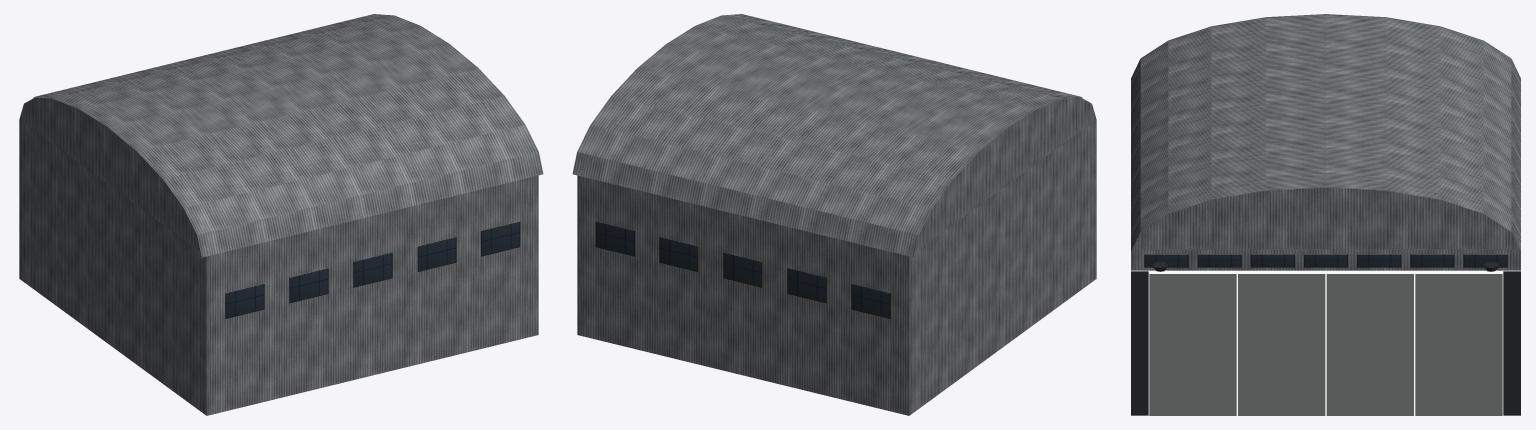
Rendered from let_hangar.glb.
3 renders of one model, left to right at view 1: azimuth 30°, elevation 25°; view 2: azimuth 150°, elevation 25°; view 3: azimuth 270°, elevation 25°, orthographic. The views are drawn at different scales.
Parts seen in each view (by area): view 1: dum; view 2: dum; view 3: dum.
Boxes of the visible parts, x1,y1,x2,y2 form: dum: (19, 14, 543, 415); dum: (572, 14, 1096, 415); dum: (1131, 14, 1520, 415).
Bounding box in the file's own units: 14.25 × 8.6 × 13.24.
2 materials, 2 textured.
